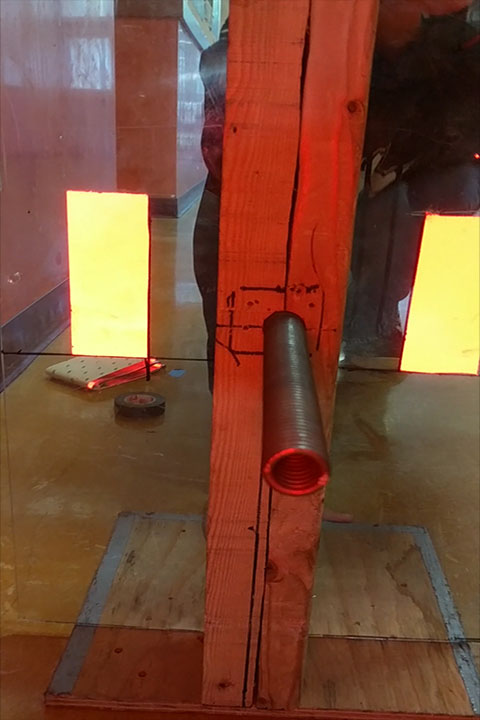gear: (65, 190, 149, 360), (398, 214, 480, 374)
